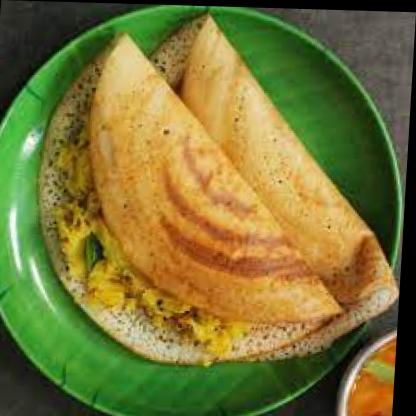dosa: (33, 33, 360, 365), (134, 13, 415, 363)
